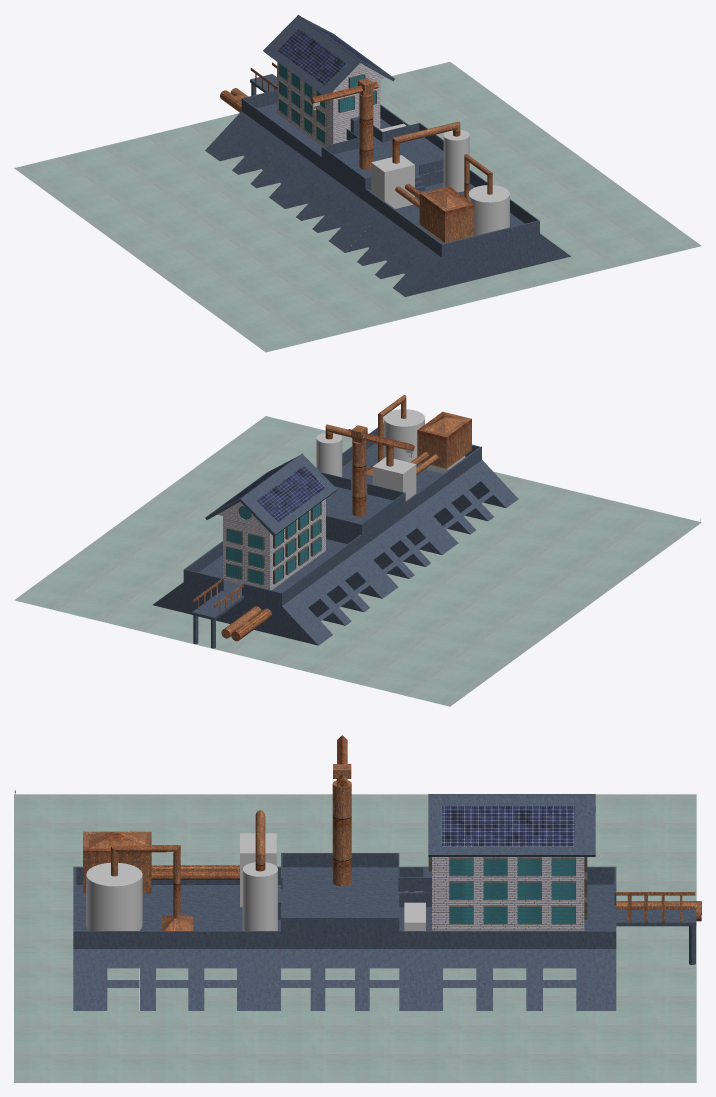
File: Gezeitenkraftwerk_stufe_3.fbx
The picture shows the model from 3 angles, top to bottom: view 1: azimuth 30°, elevation 25°; view 2: azimuth 150°, elevation 25°; view 3: azimuth 270°, elevation 25°; orthographic projection. The views are drawn at different scales.
Parts seen in each view (by area): view 1: GezKW_3_1; view 2: GezKW_3_1; view 3: GezKW_3_1.
Part boxes in pixels (x1,y1,x2,y2): GezKW_3_1: [14, 14, 701, 352]; GezKW_3_1: [14, 395, 701, 706]; GezKW_3_1: [14, 735, 701, 1082].
Size of the model in its own units: 200 by 56.18 by 202.
